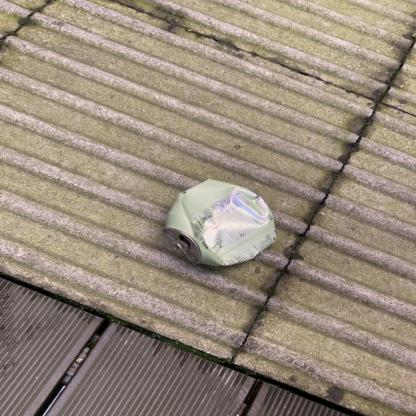trash: (162, 181, 284, 270)
